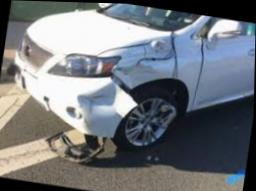Bumper: (44, 73, 139, 158)
Fender: (99, 34, 200, 89)
